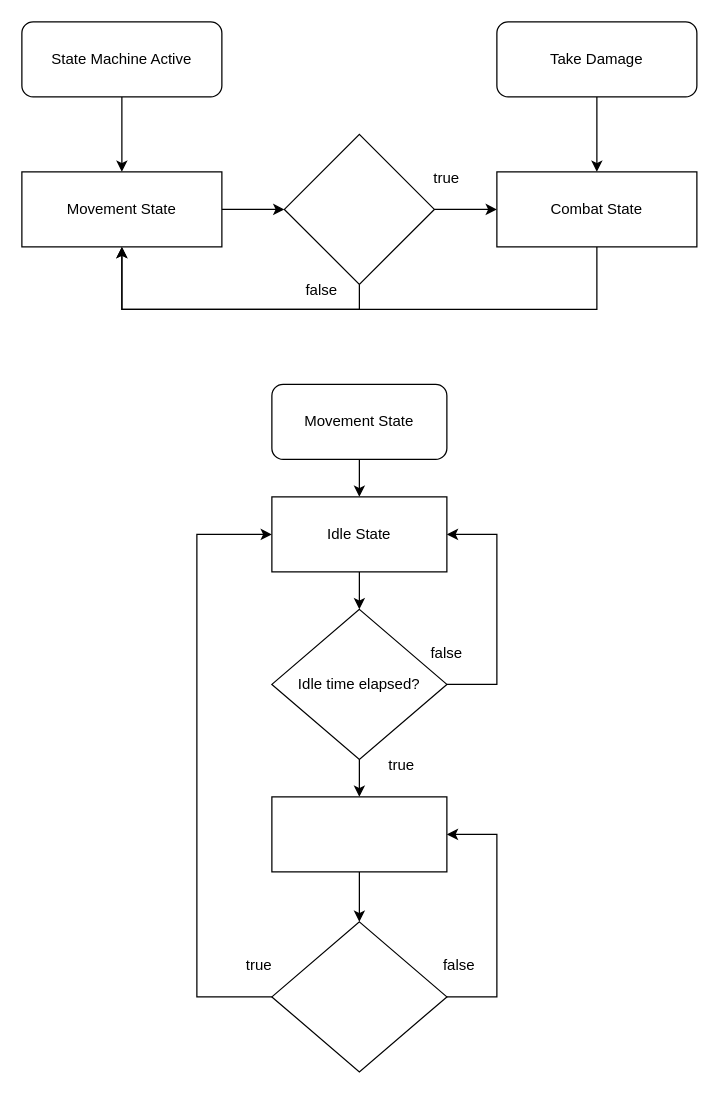
This 719x1094 diagram has some shape labels left out. Each missing label, with the centre of its shape:
"HasTarget?" belongs at point 358,208.
"Patrol State" belongs at point 359,834.
"Patrol time elapsed?" belongs at point 359,996.
